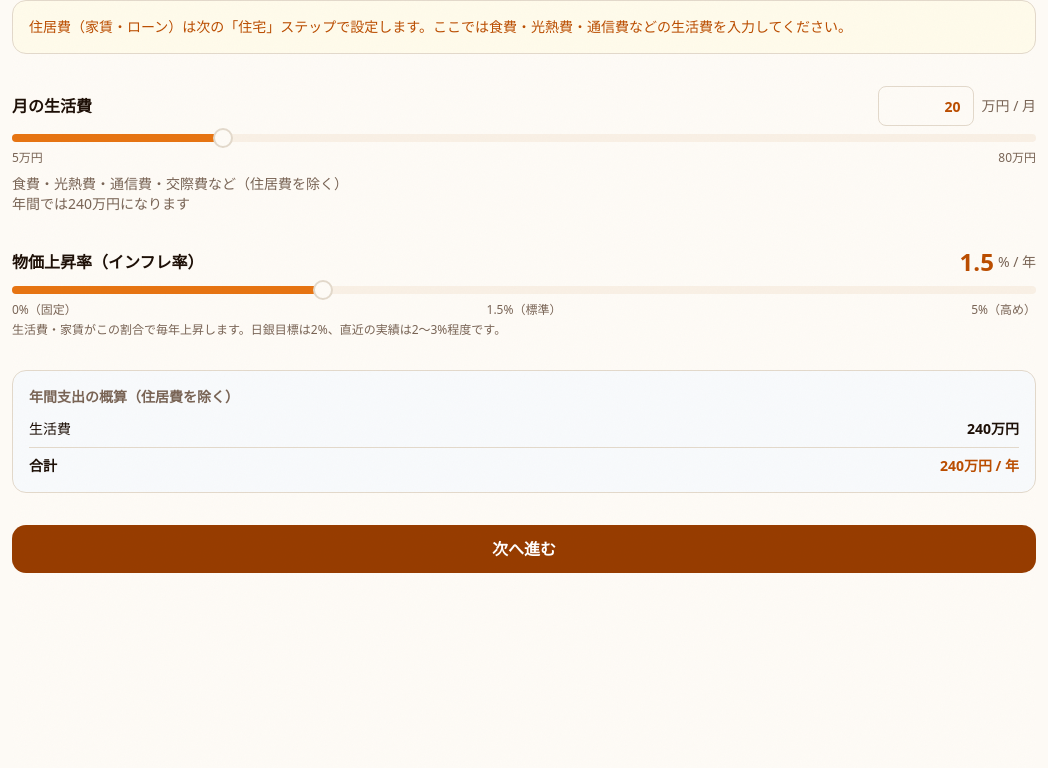
Scenario: lenient numeric input (SHIG 50, 46, 55) › non-numeric text is ignored with a hint
Replace the text in the field named "月の生活費" with "abc" at (926, 106), box [878,86,974,126]
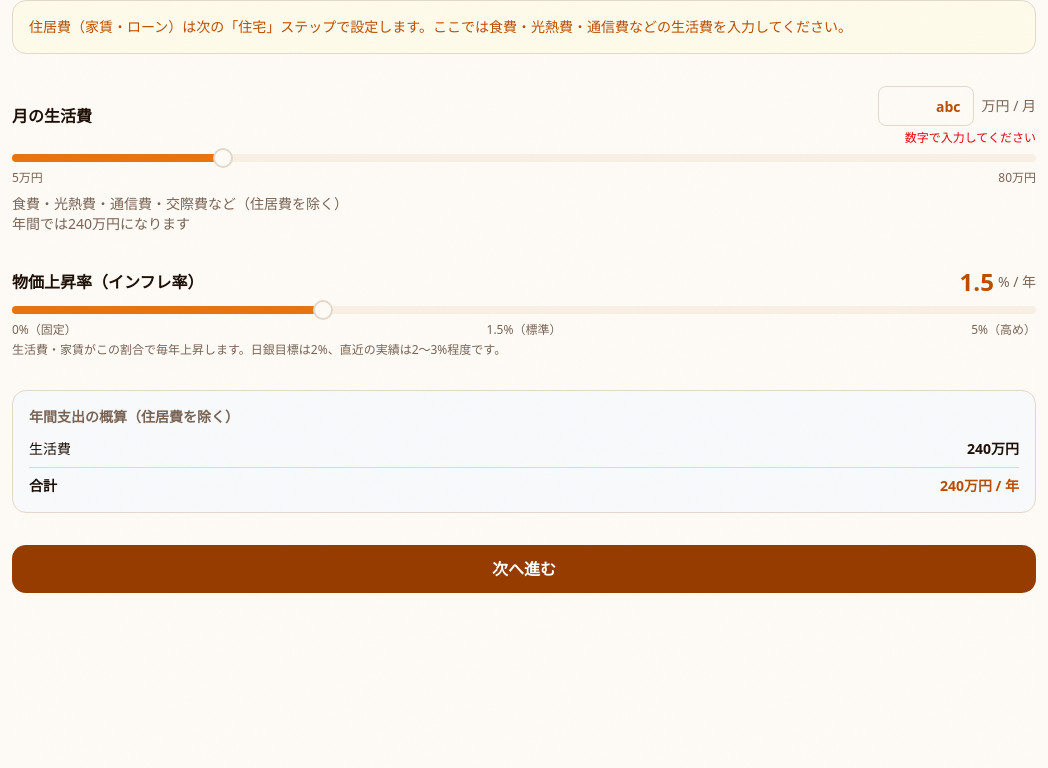
Result: the text "数字で入力してください" is shown at [905,130,1036,146]
